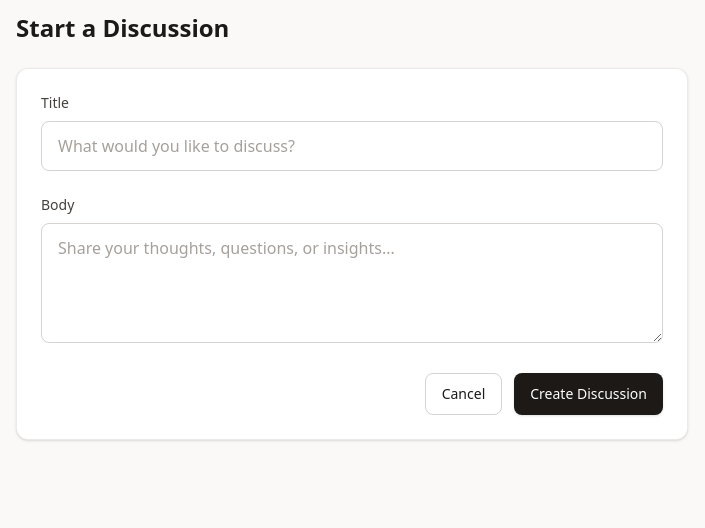
Test case: NewDiscussionPage › shows error message on submission failure
Type "Test Discussion" into the field with placeholder "What would you like to discuss?".
click(352, 146); type("Test Discussion")  # box x1=41 y1=121 x2=663 y2=171
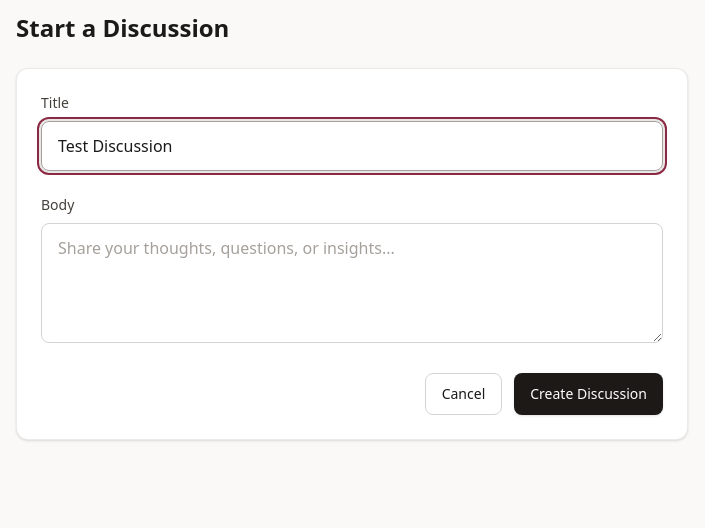
Type "Test body content" into the text box with placeholder "Share your thoughts, questions, or insights...".
click(352, 283); type("Test body content")  # box x1=41 y1=223 x2=663 y2=343
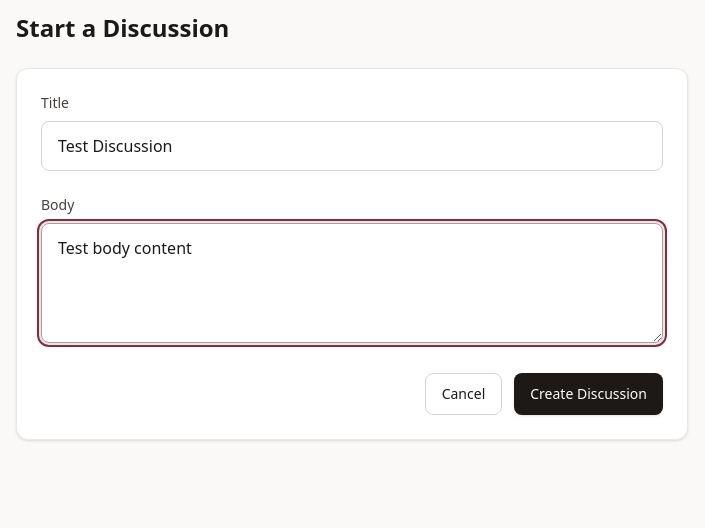
Click the button "Create Discussion".
click(589, 394)  # box x1=514 y1=373 x2=663 y2=415
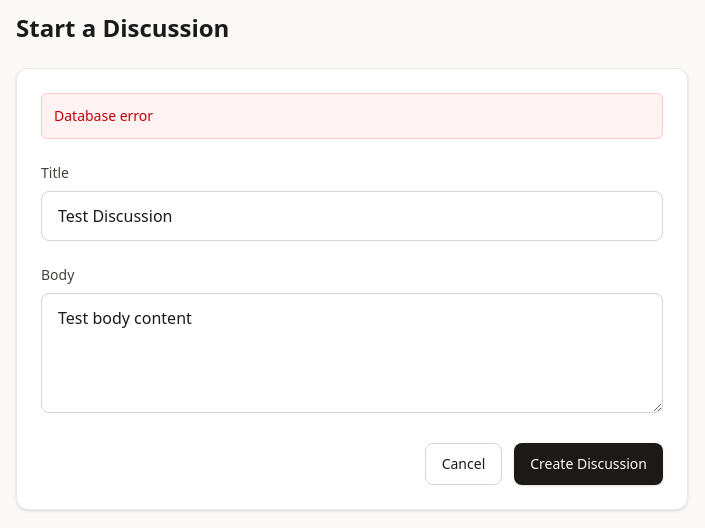
Check: the text "Database error" is shown, box x1=41 y1=93 x2=663 y2=139
